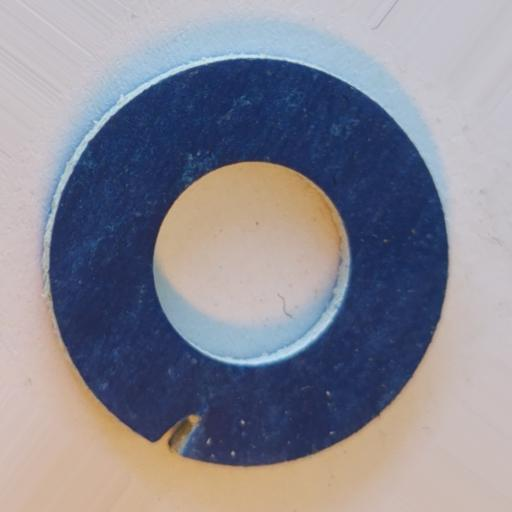defect: (155, 413, 202, 458)
